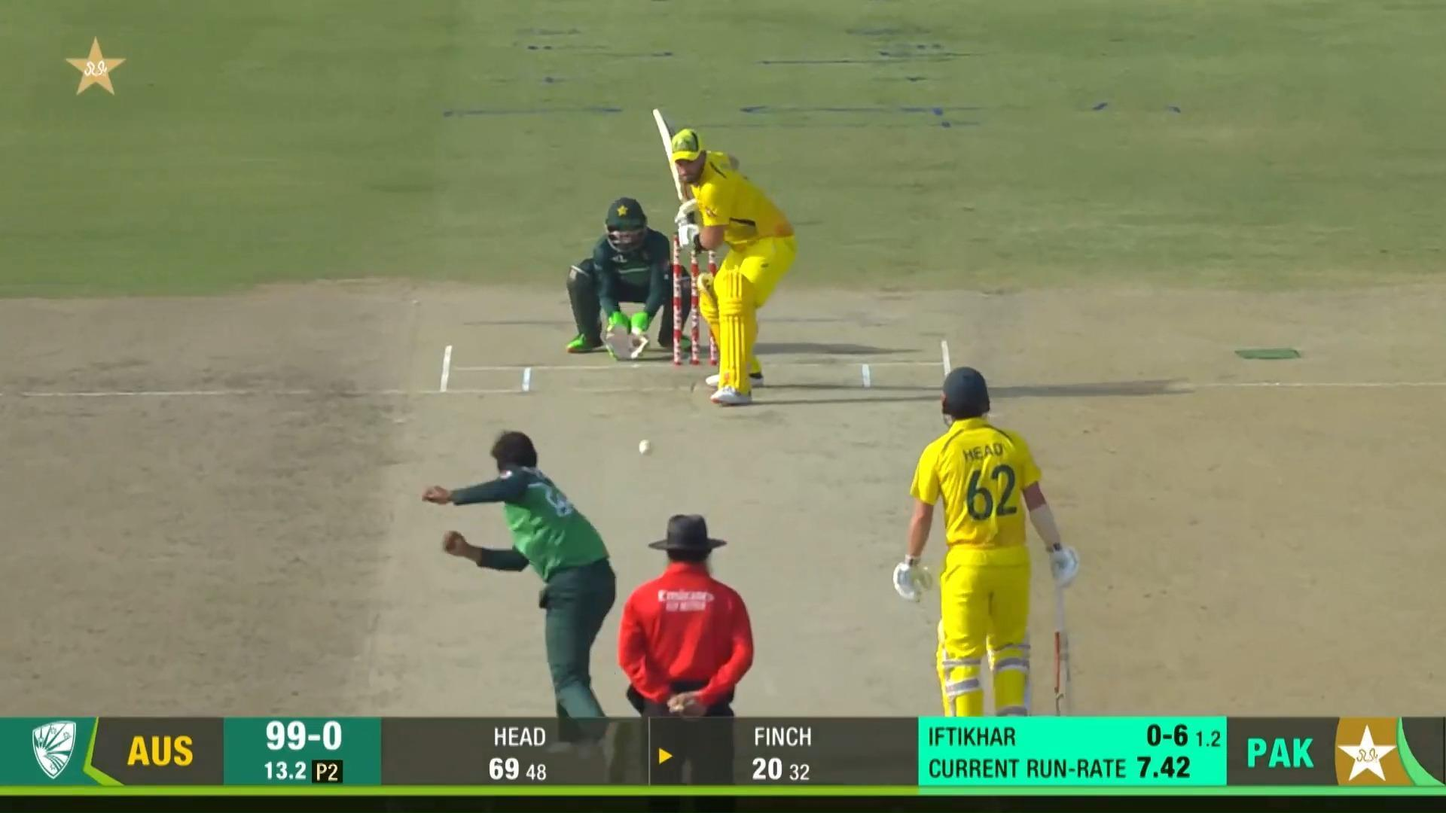BM 1: (649, 105, 801, 407)
BO: (422, 431, 629, 717)
